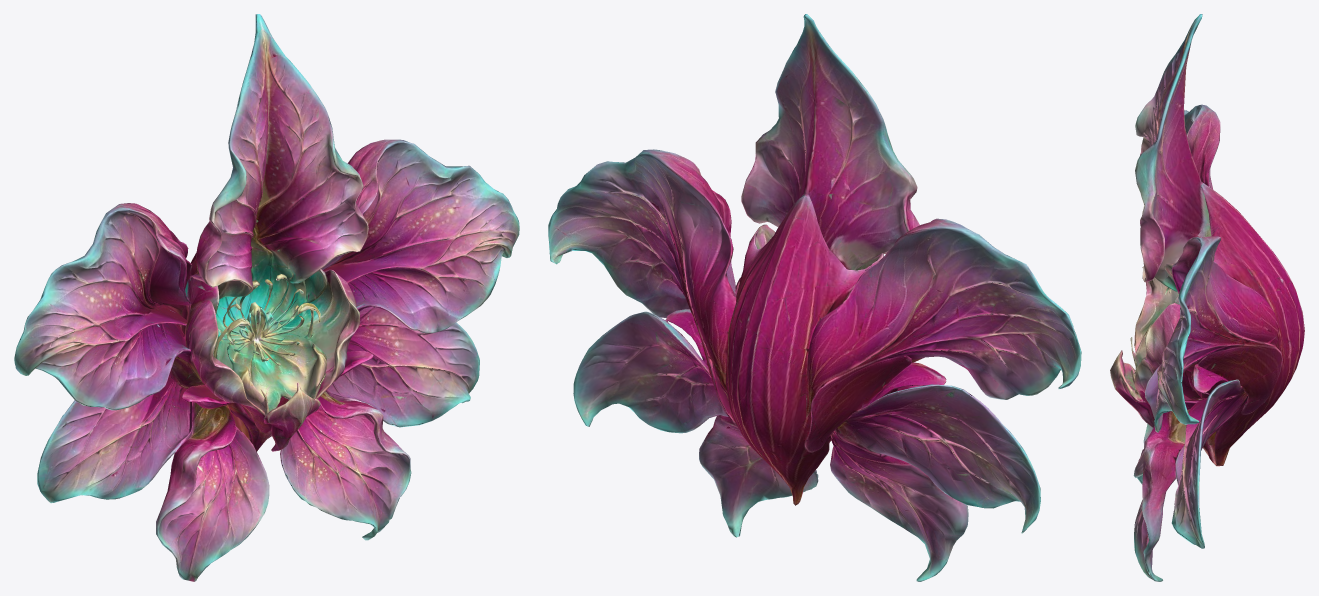
File: bloom.glb
3 renders of one model, left to right at view 1: azimuth 30°, elevation 25°; view 2: azimuth 150°, elevation 25°; view 3: azimuth 270°, elevation 25°, orthographic. The views are drawn at different scales.
Size of the model in its own units: 1.89 by 1.9 by 0.6375.
Materials: 1 (1 with a texture image).
